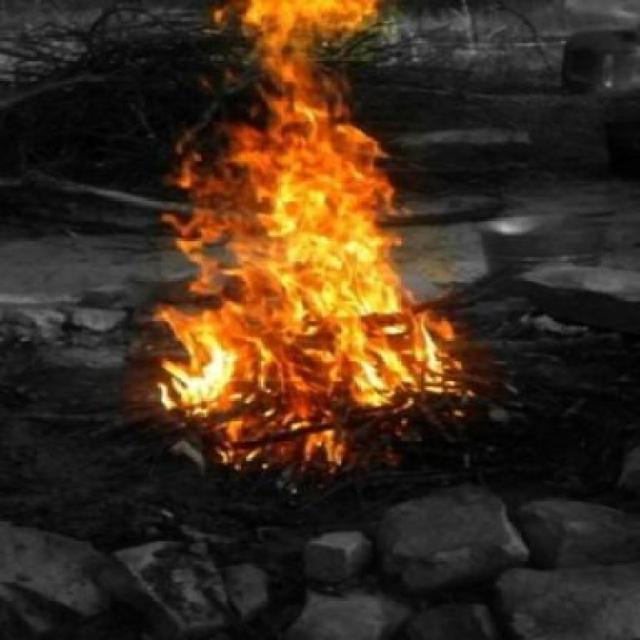Fire: (150, 6, 463, 478)
